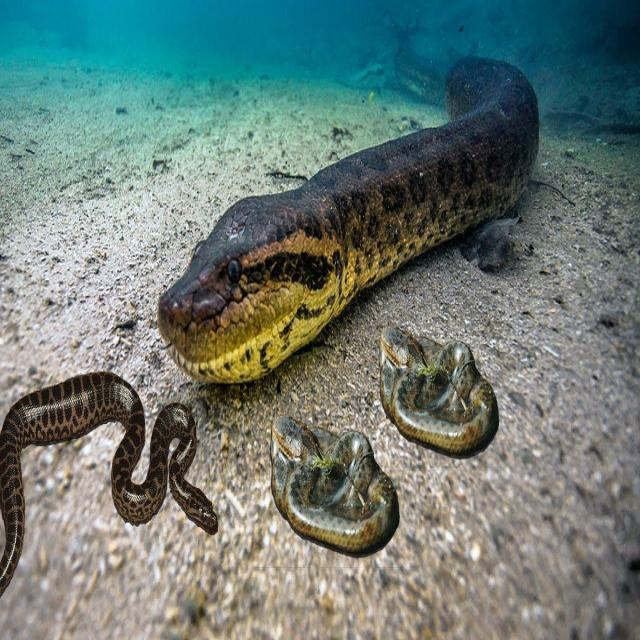Snake: (158, 22, 554, 404)
